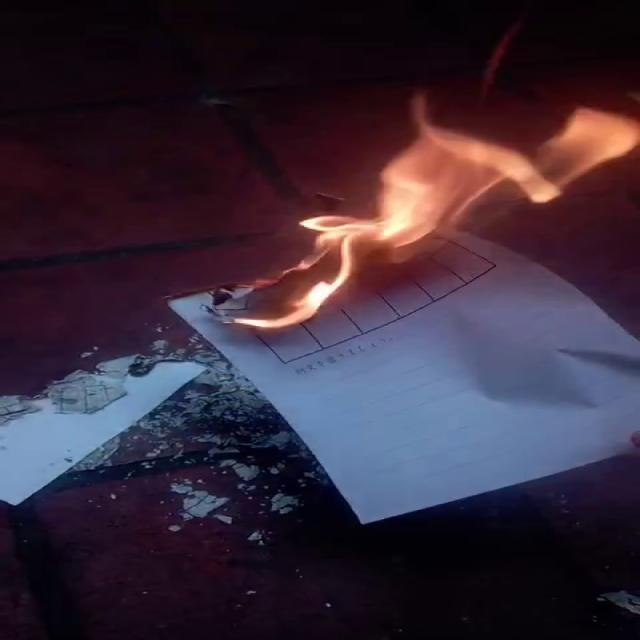Fire_Dangerous: (219, 93, 640, 332)
